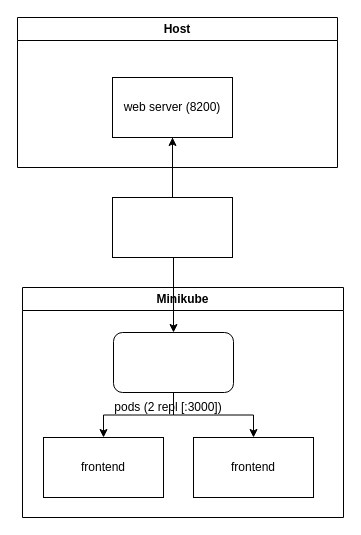
Image size: 361x535. Some labels were removed from this diagram. The centre of each missing label's shape, as x and y in pixels:
"frontend-service" belongs at pixel 173 362.
"port-forward [:3000]" belongs at pixel 172 227.
